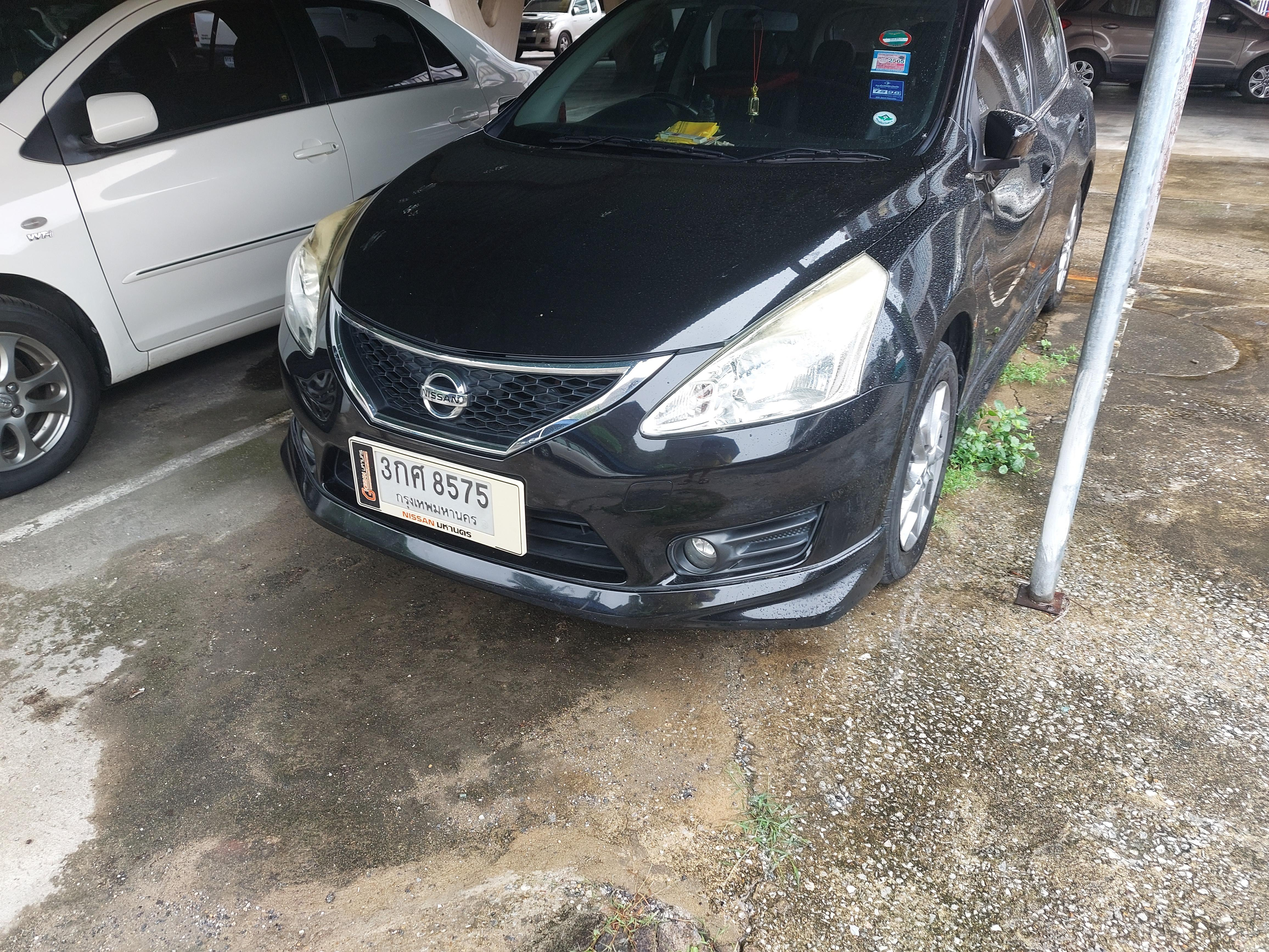license-plate: (349, 430, 531, 558)
